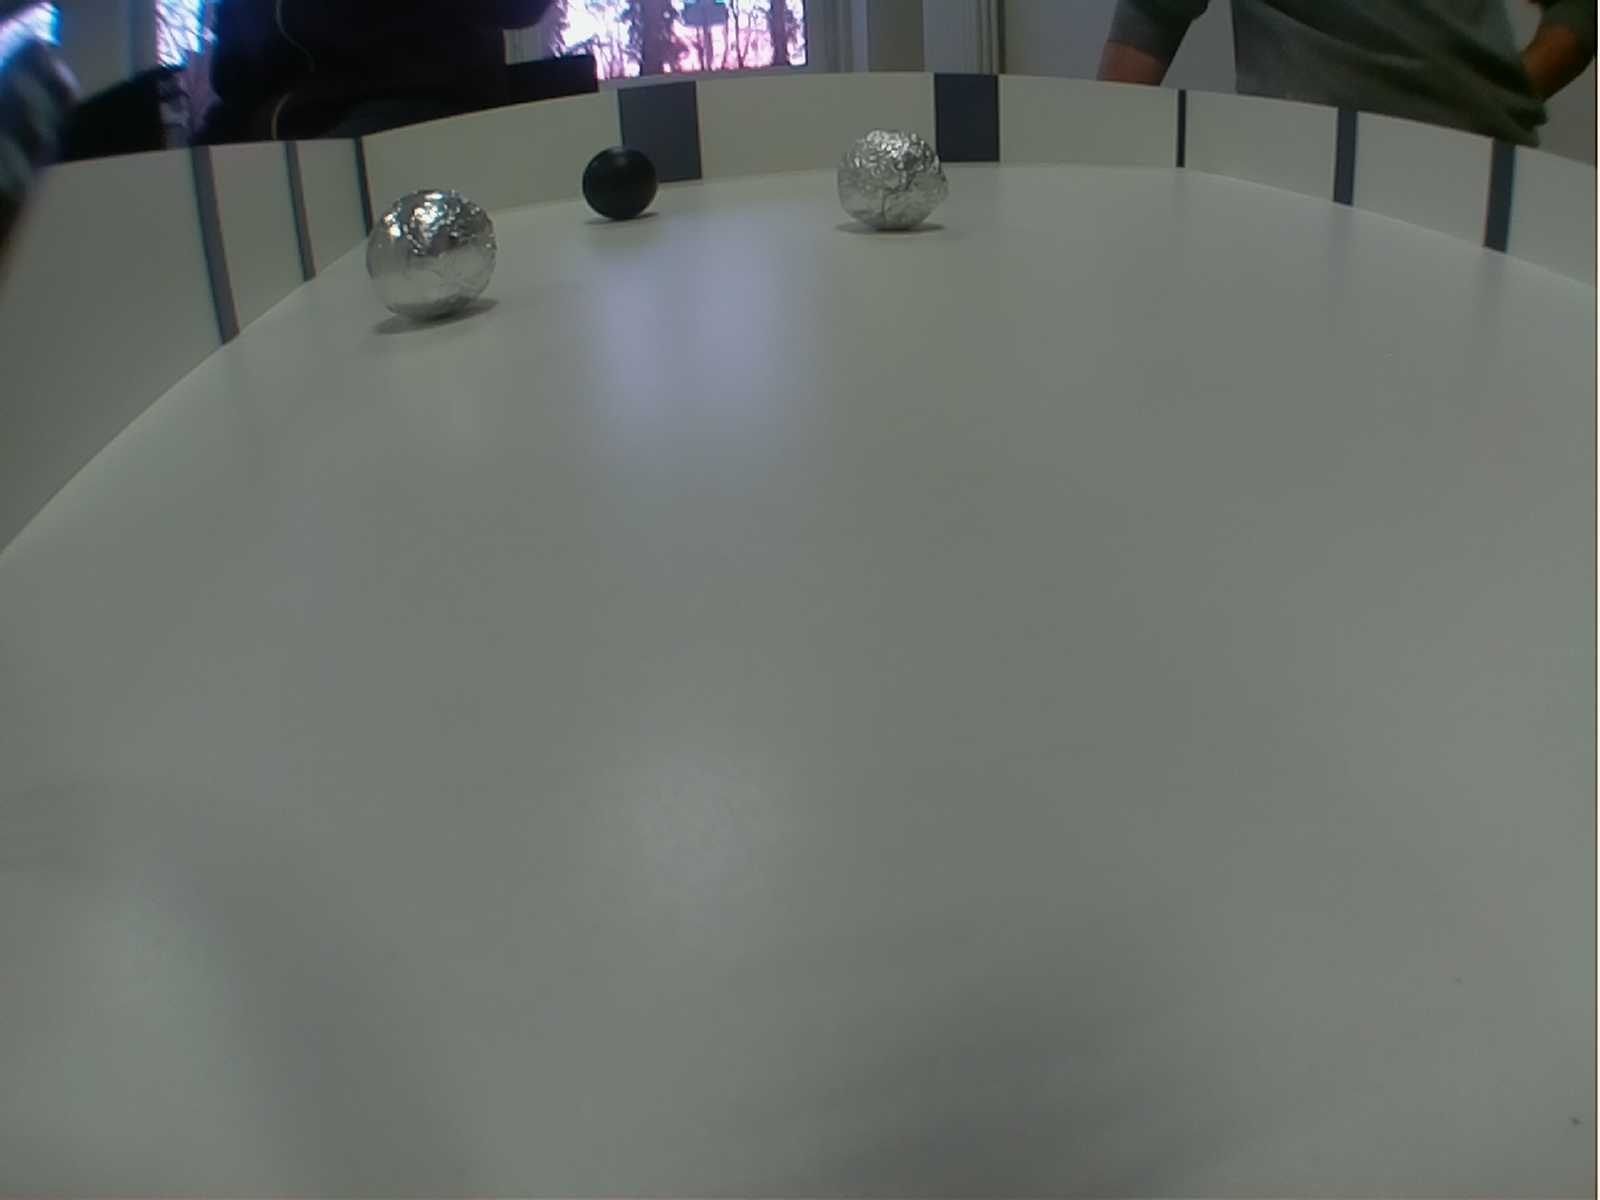bianca: (365, 188, 501, 321), (834, 122, 947, 236)
nera: (582, 144, 666, 222)
